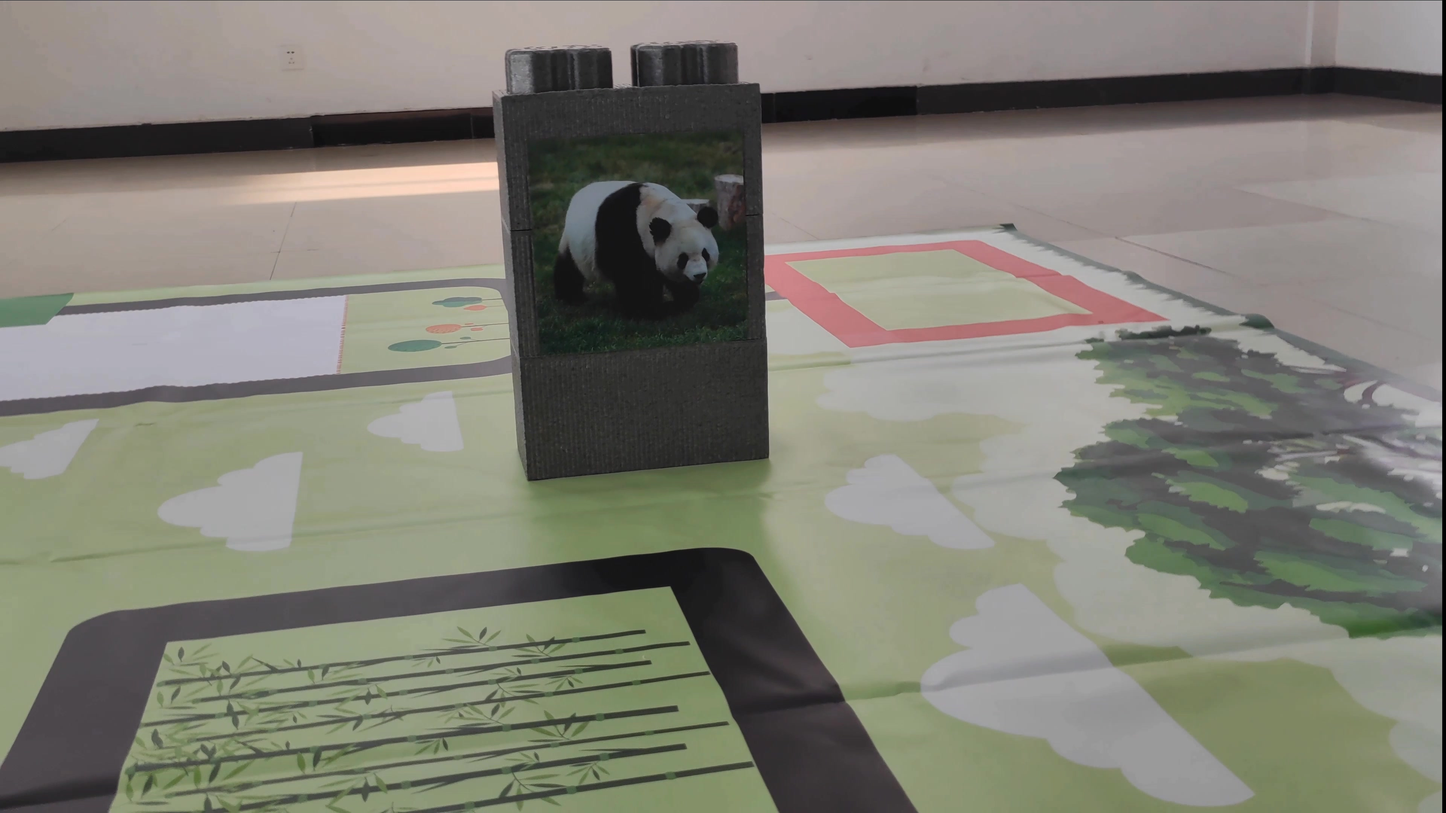panda: (542, 155, 747, 328)
